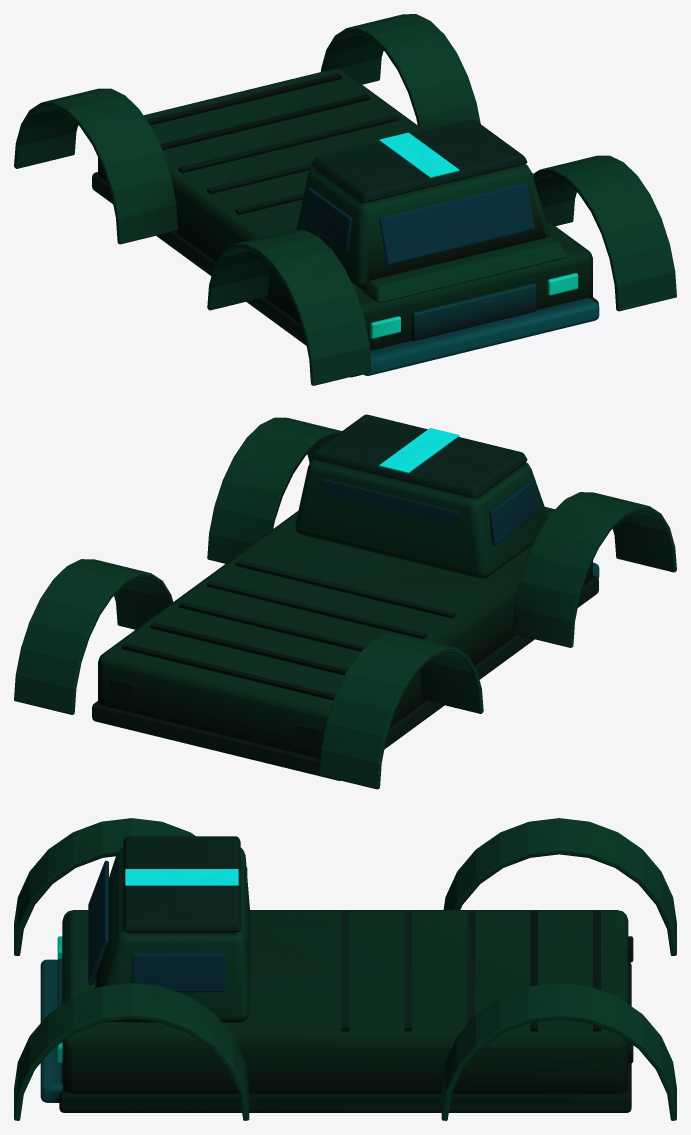
Rendered from truck_body.glb.
The picture shows the model from 3 angles, top to bottom: view 1: azimuth 30°, elevation 25°; view 2: azimuth 150°, elevation 25°; view 3: azimuth 270°, elevation 25°; orthographic projection. The views are drawn at different scales.
Visible parts, largest first — view 1: truck_body; view 2: truck_body; view 3: truck_body.
Boxes of the visible parts, bbox=[...] form: truck_body: bbox=[14, 14, 676, 385]; truck_body: bbox=[14, 414, 676, 789]; truck_body: bbox=[14, 818, 676, 1120].
Size of the model in its own units: 1.48 by 0.641 by 2.11.
Materials: 1 (1 with a texture image).
